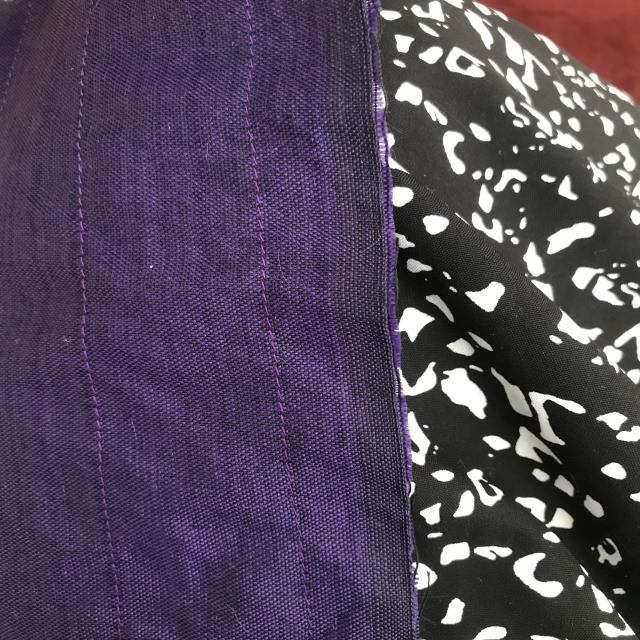good: (249, 266, 308, 470), (69, 322, 125, 493), (59, 68, 98, 284), (92, 508, 134, 615)
